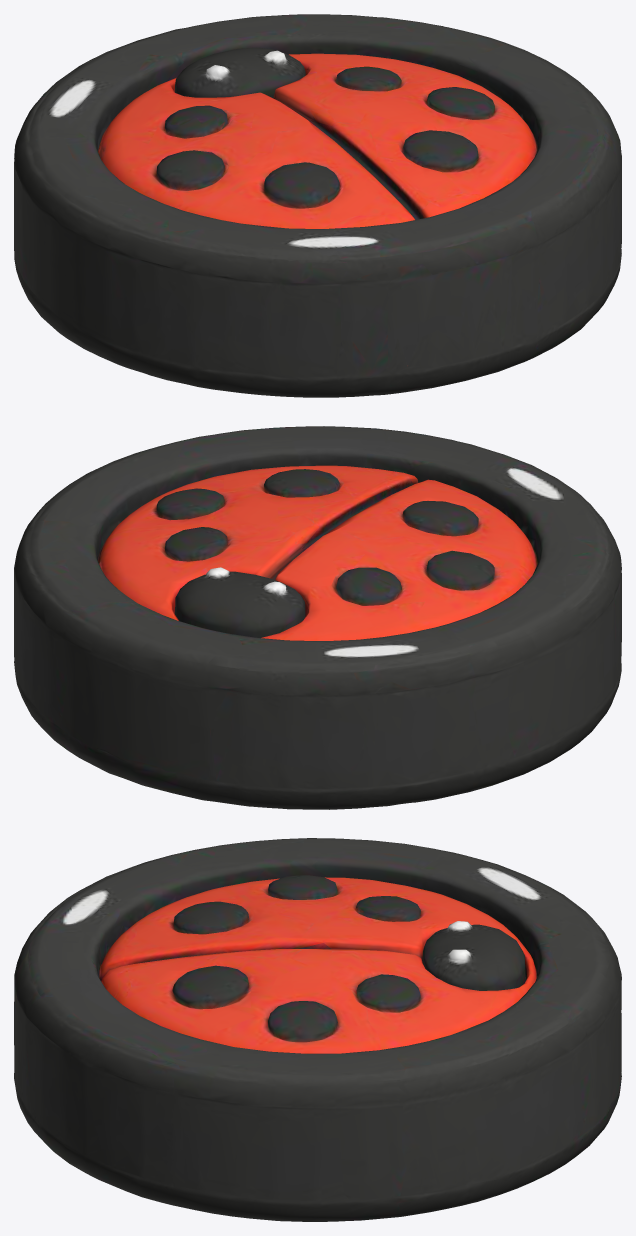
File: puck-ladybug.glb
3 renders of one model, top to bottom at view 1: azimuth 30°, elevation 25°; view 2: azimuth 150°, elevation 25°; view 3: azimuth 270°, elevation 25°, orthographic.
Visible parts, largest first — view 1: tripo_node_6f4955ba-b139-43a8-ac6d-ad9641339576; view 2: tripo_node_6f4955ba-b139-43a8-ac6d-ad9641339576; view 3: tripo_node_6f4955ba-b139-43a8-ac6d-ad9641339576.
Part boxes in pixels (x1=…): tripo_node_6f4955ba-b139-43a8-ac6d-ad9641339576: x1=14, y1=14, x2=621, y2=397; tripo_node_6f4955ba-b139-43a8-ac6d-ad9641339576: x1=14, y1=426, x2=621, y2=809; tripo_node_6f4955ba-b139-43a8-ac6d-ad9641339576: x1=14, y1=838, x2=621, y2=1221.
Size of the model in its own units: 0.9994 by 0.3045 by 1.
1 material, 1 textured.
